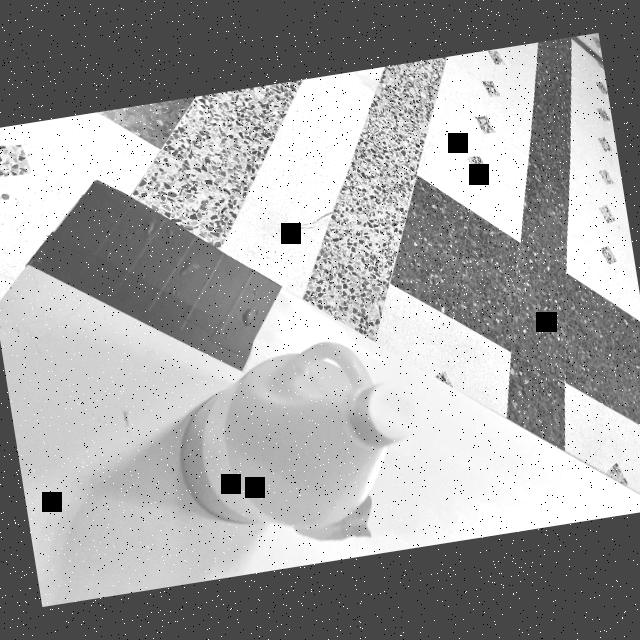chemical_plastic_gallon: (151, 319, 452, 562)
